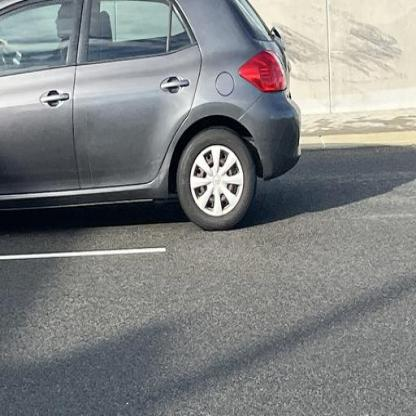Tire: (177, 126, 258, 232)
